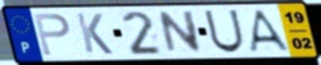2: (121, 10, 165, 56)
A: (248, 8, 293, 54)
K: (74, 12, 115, 56)
N: (157, 9, 204, 55)
P: (32, 12, 72, 58)
U: (202, 9, 246, 55)
